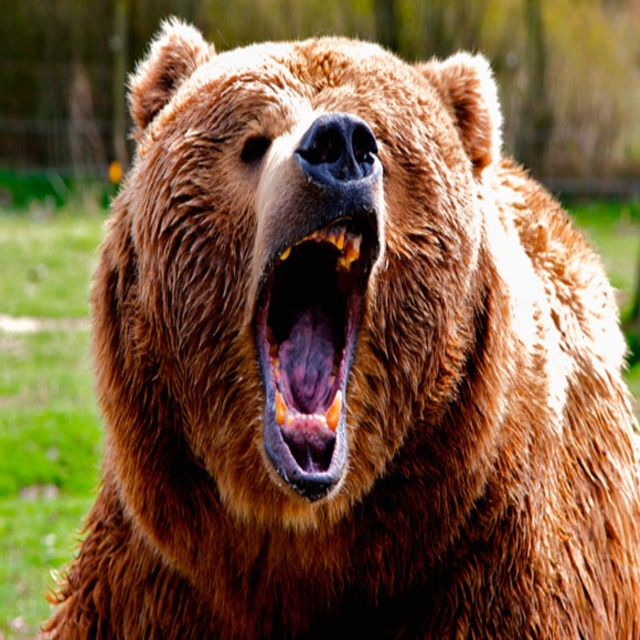Brown bear: (39, 9, 639, 638)
